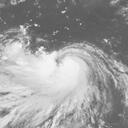cyclone: (36, 45, 91, 103)
